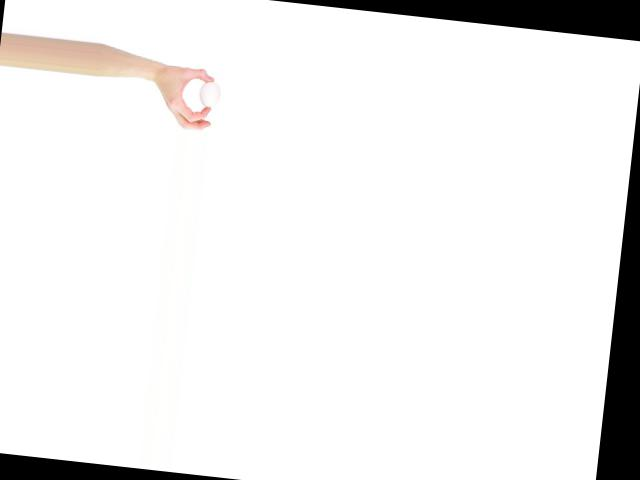egg: (197, 80, 221, 108)
